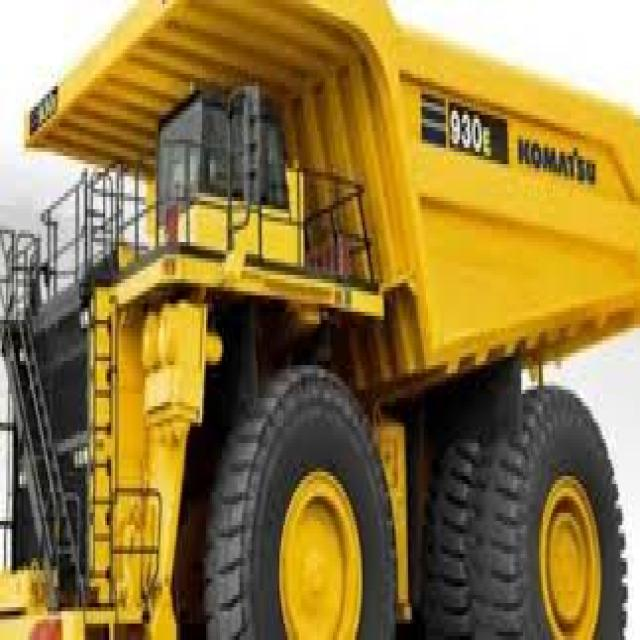dump_truck: (8, 16, 636, 636)
